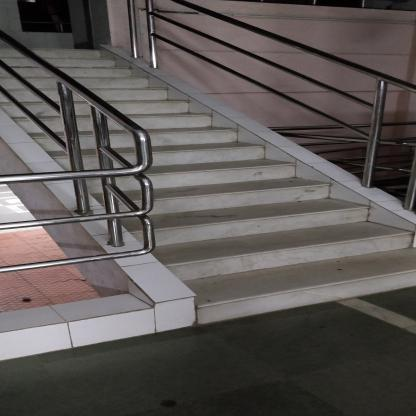stairs: (195, 188, 364, 323)
